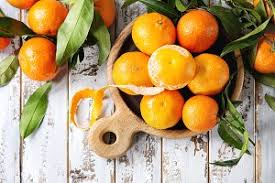orange: (143, 43, 195, 87), (128, 10, 177, 55), (186, 51, 231, 95), (176, 8, 220, 51), (138, 88, 184, 129), (17, 40, 61, 80), (113, 53, 155, 94), (181, 92, 219, 132), (27, 1, 70, 35)
